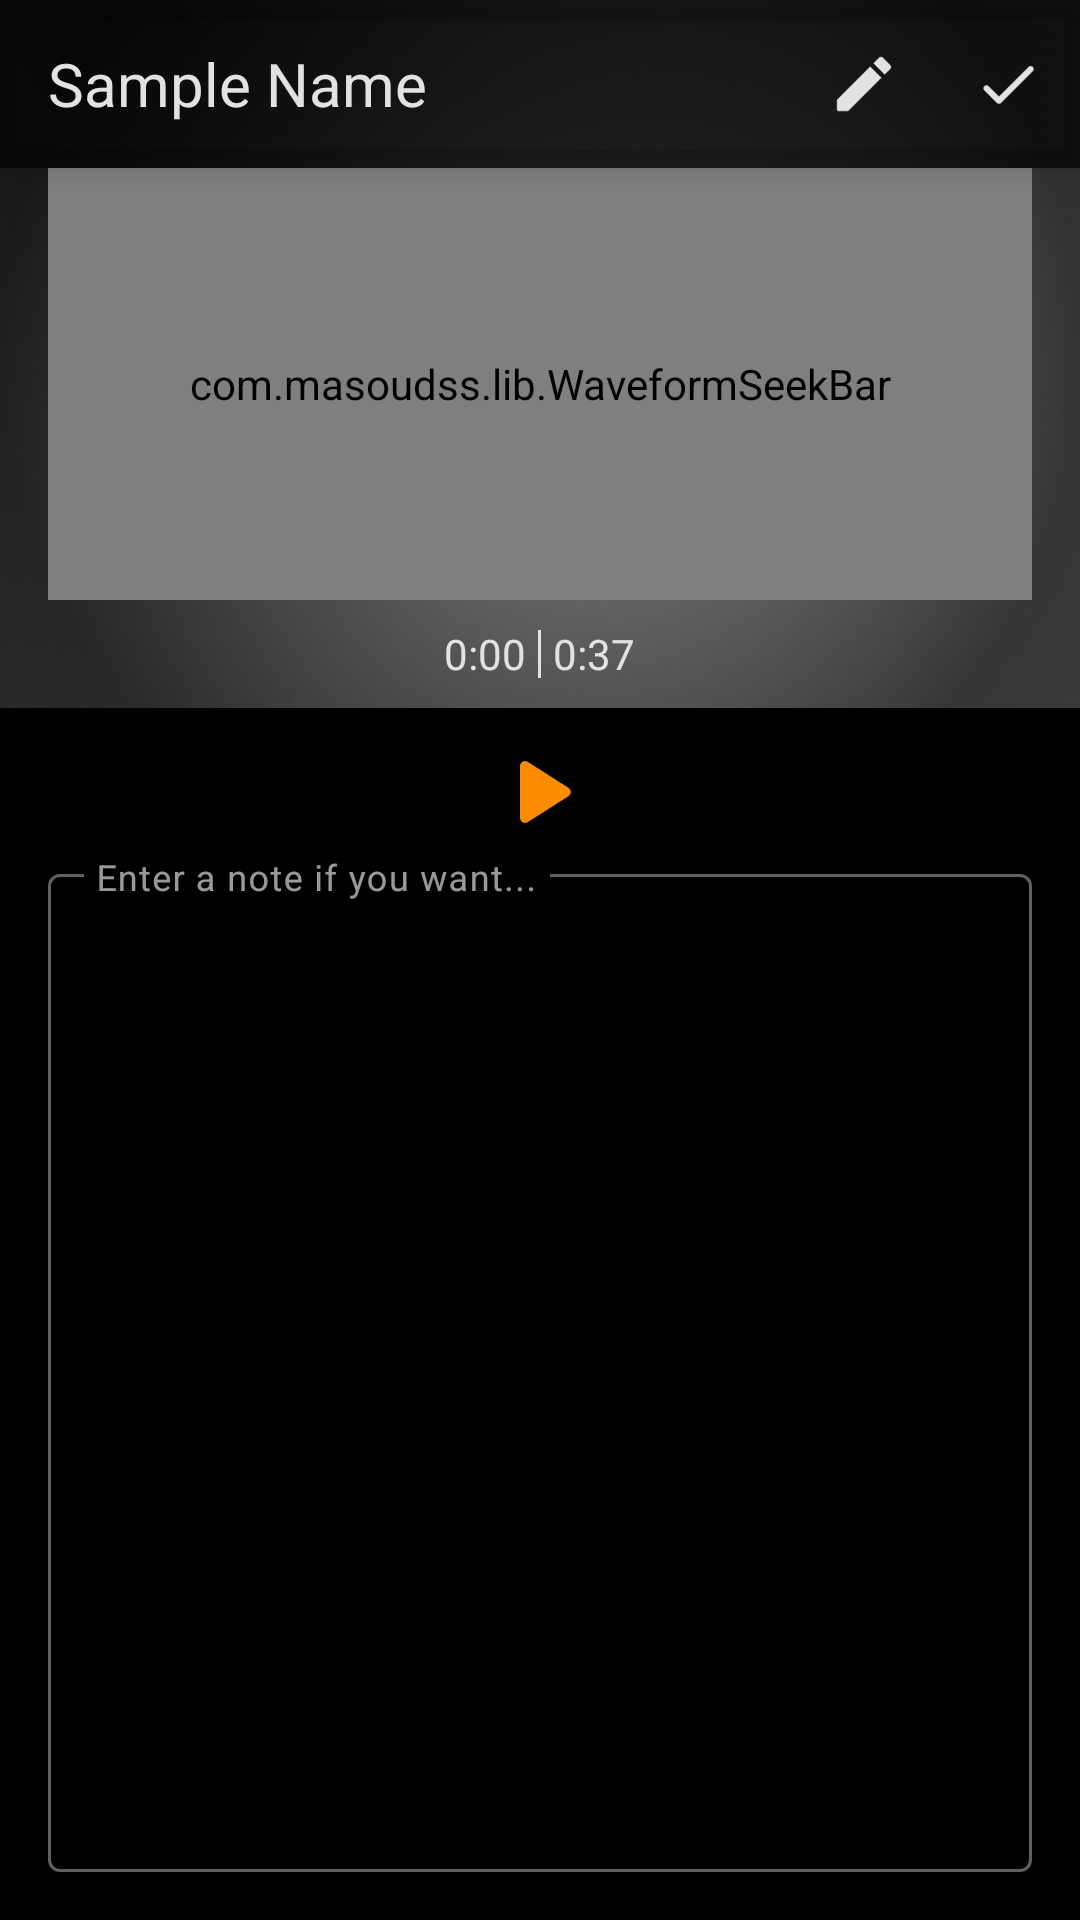

Point at icon controls on the screen. Image size 1080*1920, points as (x=x, y=y).
play arrow: (x=545, y=792)
